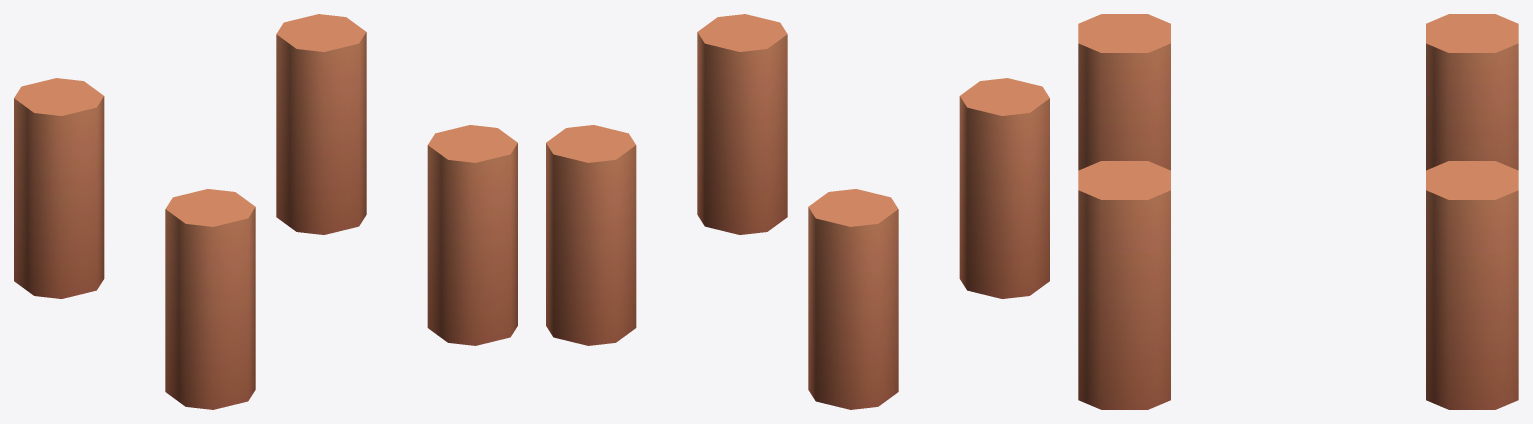
The model's file is supports-low.glb.
The picture shows the model from 3 angles, left to right: view 1: azimuth 30°, elevation 25°; view 2: azimuth 150°, elevation 25°; view 3: azimuth 270°, elevation 25°; orthographic projection. The views are drawn at different scales.
Visible parts, largest first — view 1: supports-low; view 2: supports-low; view 3: supports-low.
Boxes of the visible parts, <box> form: supports-low: <box>14,14,517,409</box>; supports-low: <box>546,14,1049,409</box>; supports-low: <box>1078,14,1518,409</box>.
Size of the model in its own units: 0.95 by 0.5 by 0.95.
Materials: 1 (1 with a texture image).
